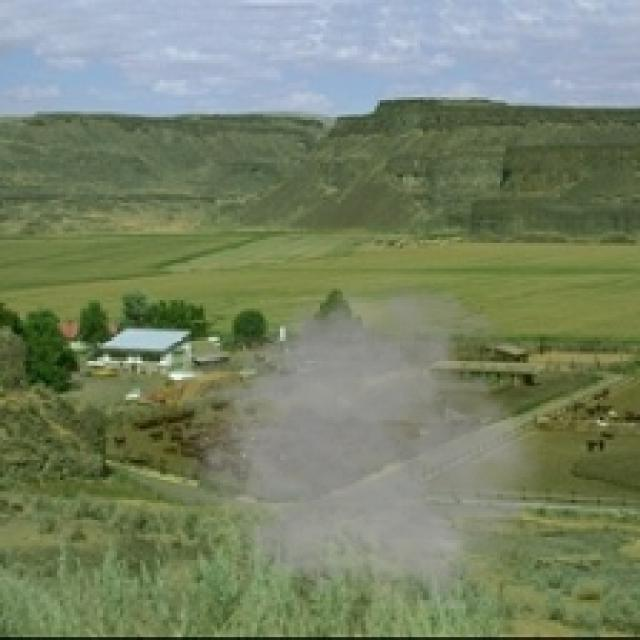Smoke: (166, 254, 554, 609)
